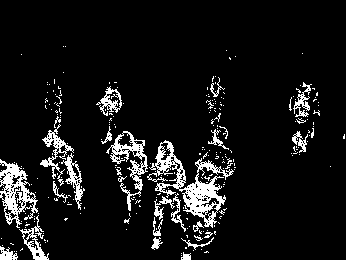person: (1, 159, 49, 260), (177, 165, 226, 260), (148, 139, 185, 252), (108, 129, 148, 226), (42, 136, 87, 218), (197, 129, 233, 199), (290, 82, 319, 158), (204, 73, 225, 144), (98, 76, 121, 140), (41, 77, 63, 139)
